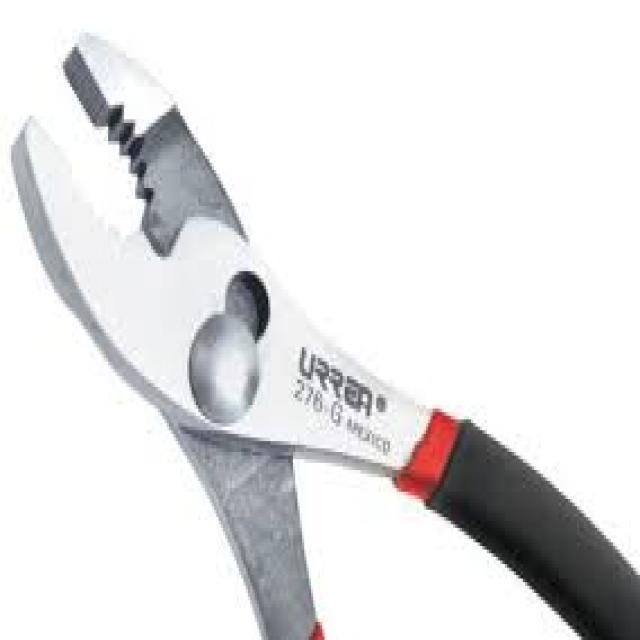pliers: (10, 31, 527, 634)
